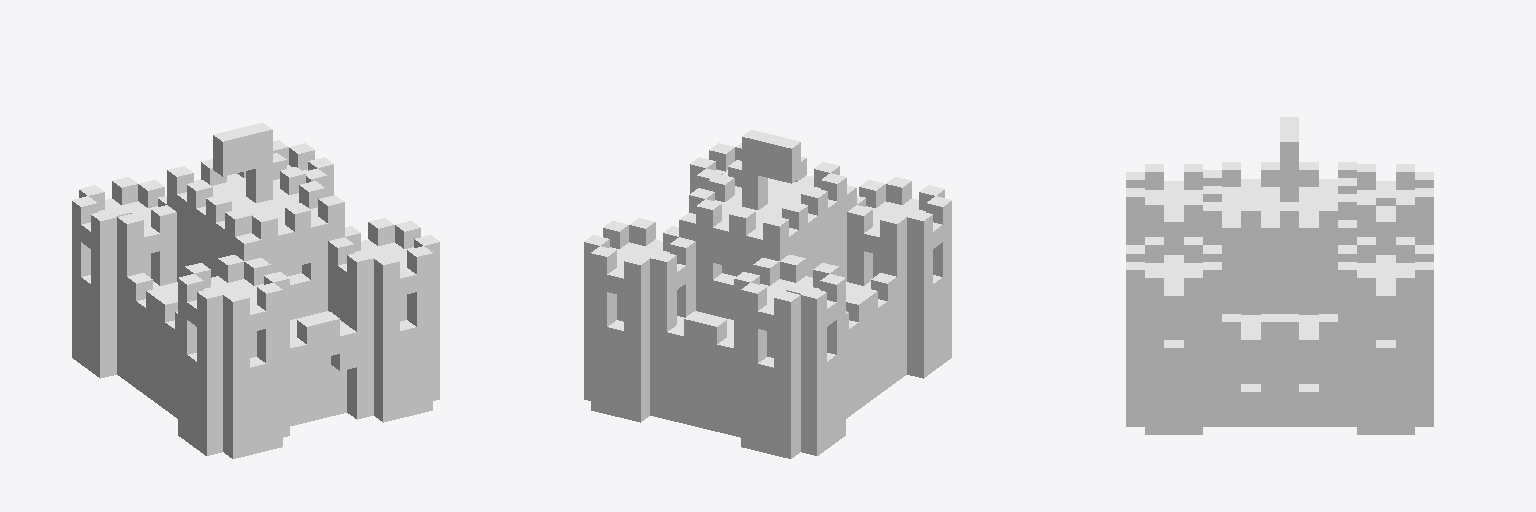
File: overworld-24-props_castle.obj
3 views of the same model, side by side, from view 1: azimuth 30°, elevation 25°; view 2: azimuth 150°, elevation 25°; view 3: azimuth 270°, elevation 25° (orthographic).
Visible parts, largest first — view 1: props_castle; view 2: props_castle; view 3: props_castle.
Boxes of the visible parts, <box> form: props_castle: <box>72,123,439,458</box>; props_castle: <box>584,130,951,458</box>; props_castle: <box>1126,117,1433,434</box>.
Size of the model in its own units: 1.4 by 1.4 by 1.6.